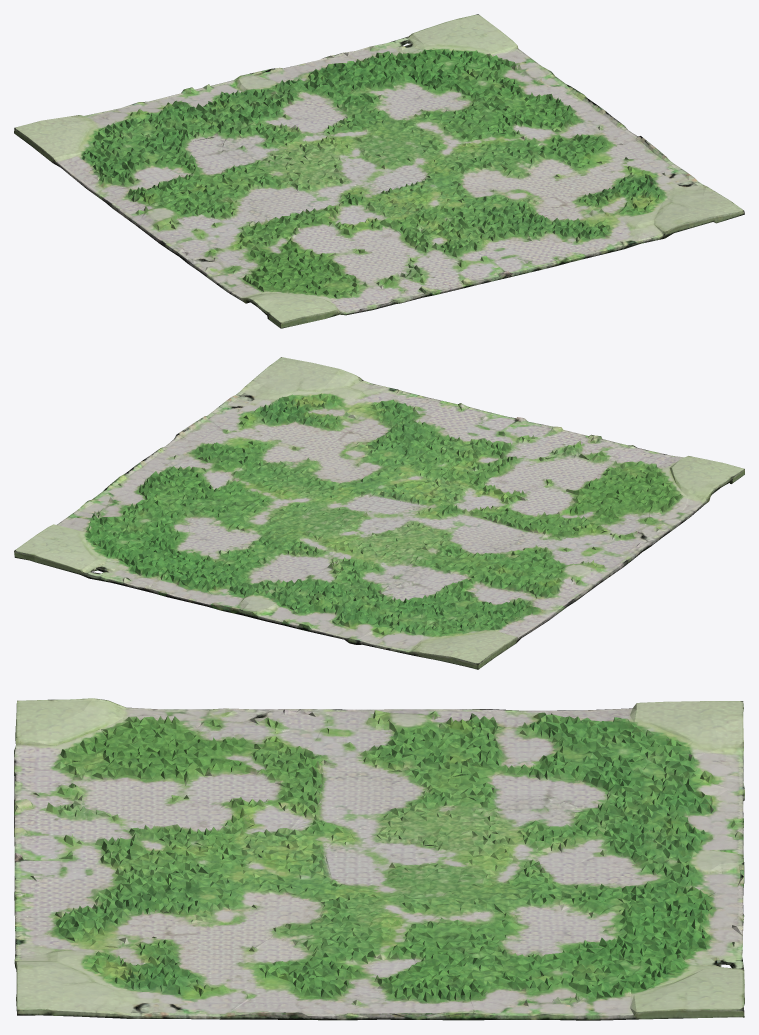
File: ground_grass.glb
The picture shows the model from 3 angles, top to bottom: view 1: azimuth 30°, elevation 25°; view 2: azimuth 150°, elevation 25°; view 3: azimuth 270°, elevation 25°; orthographic projection. The views are drawn at different scales.
Parts seen in each view (by area): view 1: world; view 2: world; view 3: world.
Part boxes in pixels (x1=…): world: x1=14, y1=14, x2=744, y2=328; world: x1=14, y1=357, x2=744, y2=669; world: x1=14, y1=698, x2=744, y2=1020.
Bounding box in the file's own units: 1 × 0.028 × 1.
1 material, 1 textured.
